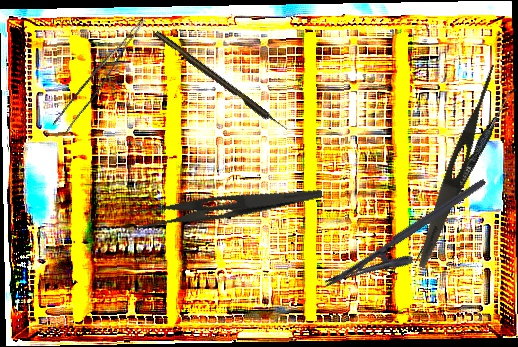Dressing Forceps: (412, 60, 502, 271), (126, 168, 324, 239)
Hook Surgical: (153, 29, 289, 134)
Needle Holder: (321, 176, 502, 311)
Spatula Surgical: (412, 83, 517, 267)
Tissue Forceps: (51, 8, 146, 138)
